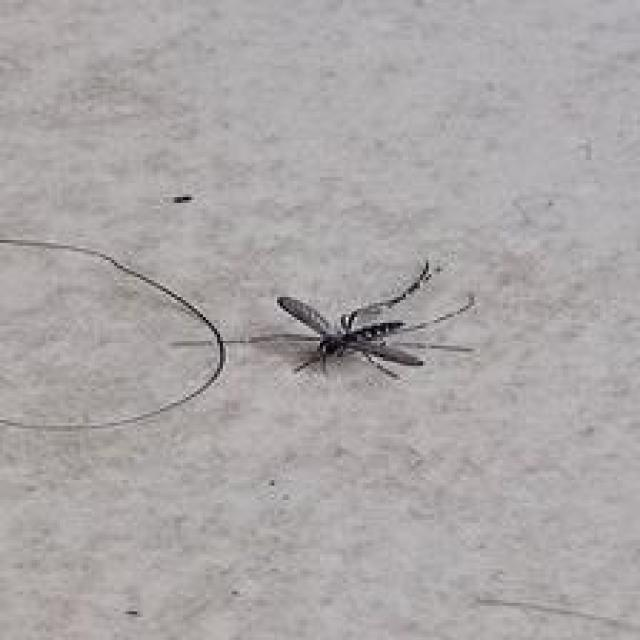Aedes albopictus: (236, 257, 478, 383)
